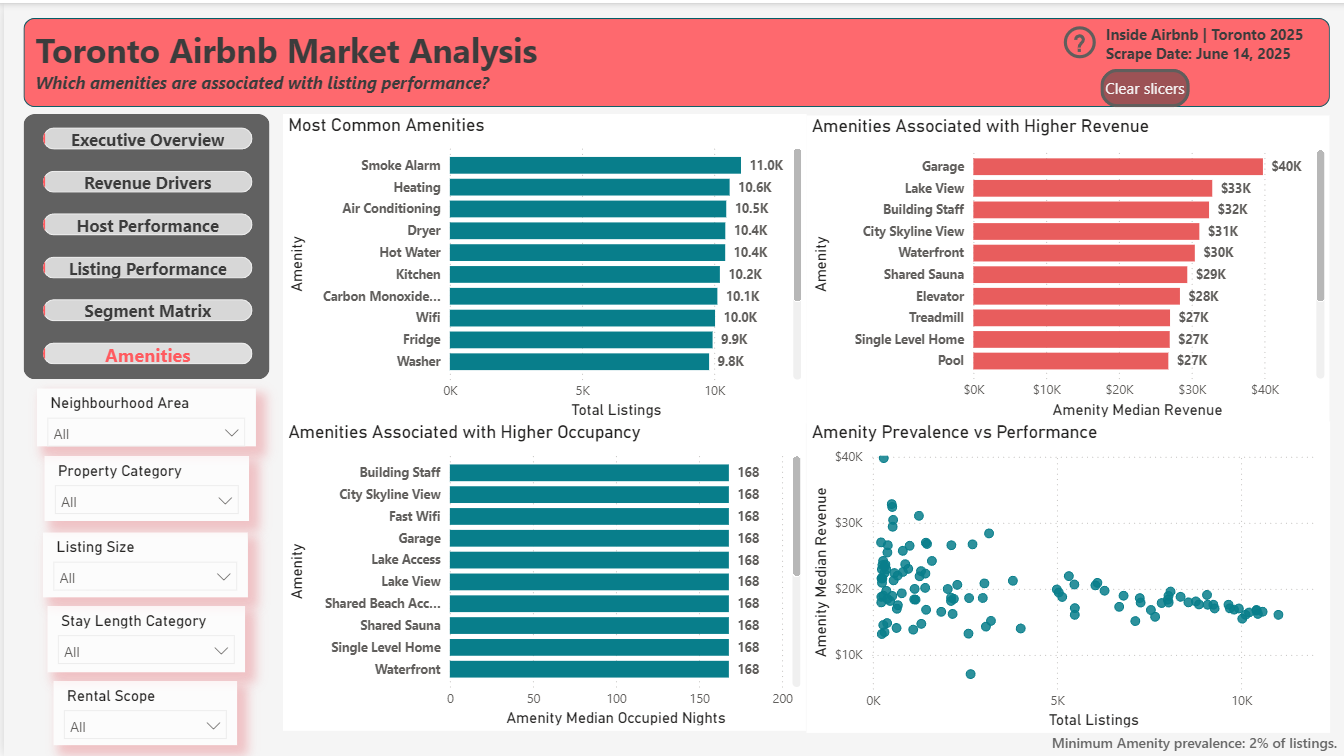

Layout of this report page (visuals, bound fields, positions):
{"tool":"powerbi","page":{"name":"Amenities","canvas":[1280,720],"ordinal":5},"visuals":[{"type":"shape","box":[18.3,106.7,235,253.3],"z":0},{"type":"shape","box":[18.2,14.2,1247.6,85.1],"z":1000},{"type":"textbox","box":[10,16.7,531.7,90],"z":2000},{"type":"textbox","box":[1047.5,14.6,218,47.2],"z":3000},{"type":"pageNavigator","box":[36.7,118.3,200,231],"z":4000},{"type":"actionButton","box":[1047.1,62.8,85.1,36.5],"z":5000},{"type":"slicer","fields":{"Values":["dim_neighbourhoods.Neighbourhood Area Hierarchy.Neighbourhood Area","dim_neighbourhoods.Neighbourhood Area Hierarchy.Neighbourhood Name"]},"box":[31.1,368.3,208.3,55],"z":6000},{"type":"slicer","fields":{"Values":["dim_classifications.Property Category"]},"box":[38.3,432.8,195,61.7],"z":7000},{"type":"slicer","fields":{"Values":["dim_classifications.Accommodation Size"]},"box":[37.8,505,195,61.7],"z":8000},{"type":"slicer","fields":{"Values":["dim_classifications.Stay Length Category"]},"box":[41.7,576.1,188.3,63.3],"z":9000},{"type":"slicer","fields":{"Values":["dim_classifications.Rental Scope"]},"box":[46.7,647.8,175,61],"z":10000},{"type":"clusteredBarChart","title":"Amenities Associated with Higher Revenue","fields":{"Y":["Measures List.Amenity Median Revenue (min 50 listings)"],"Category":["dim_amenities.Amenity"]},"box":[766.4,107.4,499.5,292.9],"z":11000},{"type":"clusteredBarChart","title":"Most Common Amenities","fields":{"Y":["Measures List.Total Listings"],"Category":["dim_amenities.Amenity"]},"box":[266.8,105.8,499.9,295.2],"z":12000},{"type":"clusteredBarChart","title":"Amenities Associated with Higher Occupancy","fields":{"Category":["dim_amenities.Amenity"],"Y":["Measures List.Amenity Median Occupied Nights"]},"box":[266.8,400.3,499.2,295.2],"z":13000},{"type":"textbox","box":[995.8,691.5,284.4,29],"z":14000},{"type":"scatterChart","title":"Amenity Prevalence vs Performance","fields":{"Y":["Measures List.Amenity Median Revenue (min 2%)"],"Category":["dim_amenities.Amenity"],"X":["Measures List.Total Listings"]},"box":[766.4,400.3,499.9,297.1],"z":15000},{"type":"actionButton","box":[1007.2,17.9,40.7,40.7],"z":16000}]}

Visuals, with their boxes in screenshot pixels (x1, y1, x2, y2), scaled from the page's 1280x720 canvas onto the 1344x756 screenshot:
shape: {"x1": 19, "y1": 112, "x2": 266, "y2": 378}
shape: {"x1": 19, "y1": 15, "x2": 1329, "y2": 104}
textbox: {"x1": 10, "y1": 18, "x2": 569, "y2": 112}
textbox: {"x1": 1100, "y1": 15, "x2": 1329, "y2": 65}
pageNavigator: {"x1": 39, "y1": 124, "x2": 249, "y2": 367}
actionButton: {"x1": 1099, "y1": 66, "x2": 1189, "y2": 104}
slicer - dim_neighbourhoods.Neighbourhood Area Hierarchy.Neighbourhood Area x dim_neighbourhoods.Neighbourhood Area Hierarchy.Neighbourhood Name: {"x1": 33, "y1": 387, "x2": 251, "y2": 444}
slicer - dim_classifications.Property Category: {"x1": 40, "y1": 454, "x2": 245, "y2": 519}
slicer - dim_classifications.Accommodation Size: {"x1": 40, "y1": 530, "x2": 244, "y2": 595}
slicer - dim_classifications.Stay Length Category: {"x1": 44, "y1": 605, "x2": 242, "y2": 671}
slicer - dim_classifications.Rental Scope: {"x1": 49, "y1": 680, "x2": 233, "y2": 744}
"Amenities Associated with Higher Revenue" clusteredBarChart: {"x1": 805, "y1": 113, "x2": 1329, "y2": 420}
"Most Common Amenities" clusteredBarChart: {"x1": 280, "y1": 111, "x2": 805, "y2": 421}
"Amenities Associated with Higher Occupancy" clusteredBarChart: {"x1": 280, "y1": 420, "x2": 804, "y2": 730}
textbox: {"x1": 1046, "y1": 726, "x2": 1343, "y2": 755}
"Amenity Prevalence vs Performance" scatterChart: {"x1": 805, "y1": 420, "x2": 1330, "y2": 732}
actionButton: {"x1": 1058, "y1": 19, "x2": 1100, "y2": 62}
